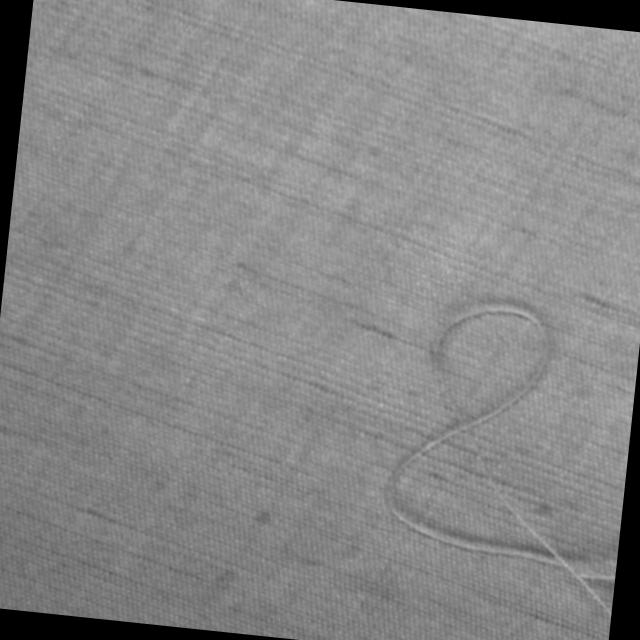Thread: (366, 291, 640, 621)
